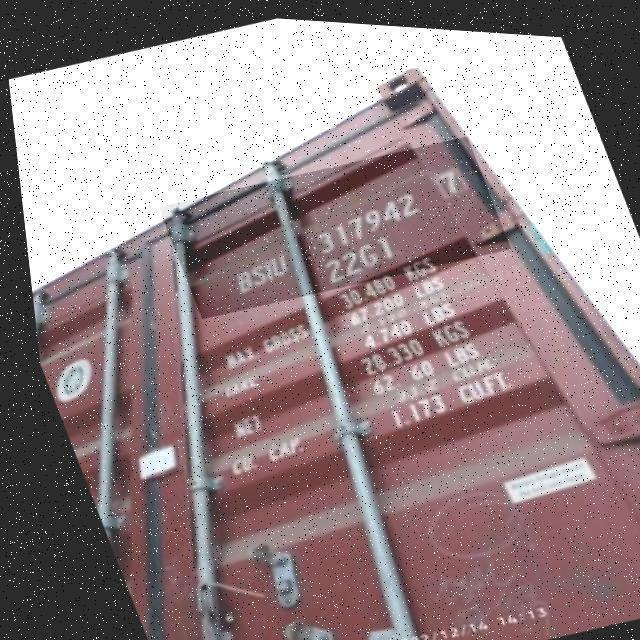ISO: (326, 225, 392, 298)
container_number: (223, 158, 463, 300)
